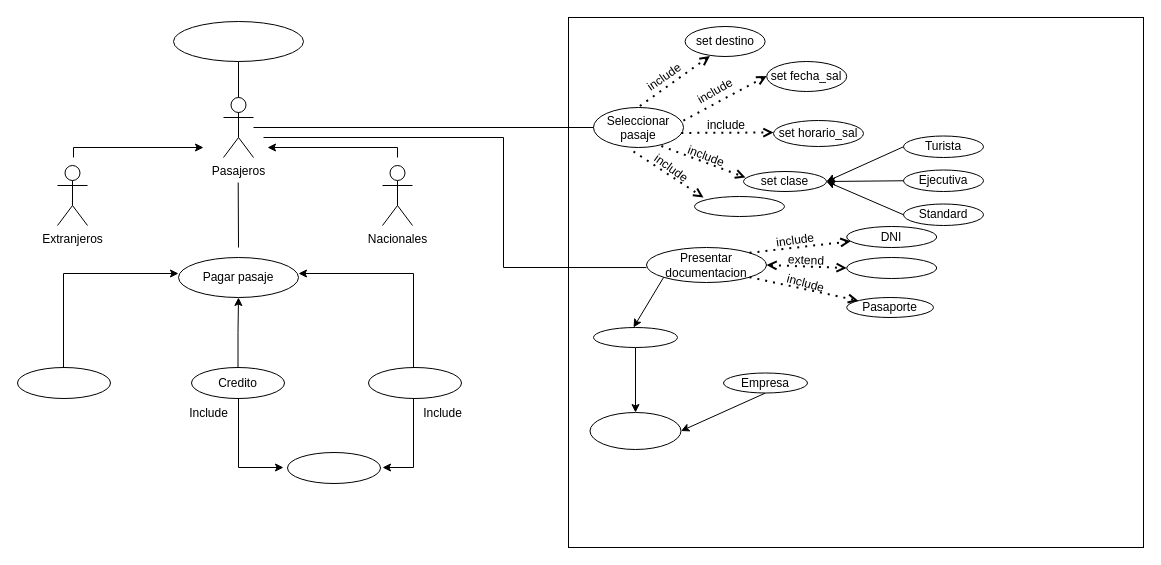
The diagram is 1161 pixels wide and 565 high, and some of its shapes have lost their labels. The shapes that lost their labels are listed below. From the top down, each one's centre as x and y in pixels, then its label:
the point at 238,41: Recibir pasaje
the point at 739,206: set ubicacion
the point at 891,267: Ingreso al pais
the point at 635,337: Millaje
the point at 63,382: Efectivo
the point at 415,382: Debito
the point at 635,431: Presentar Descuento
the point at 333,468: Firmar
